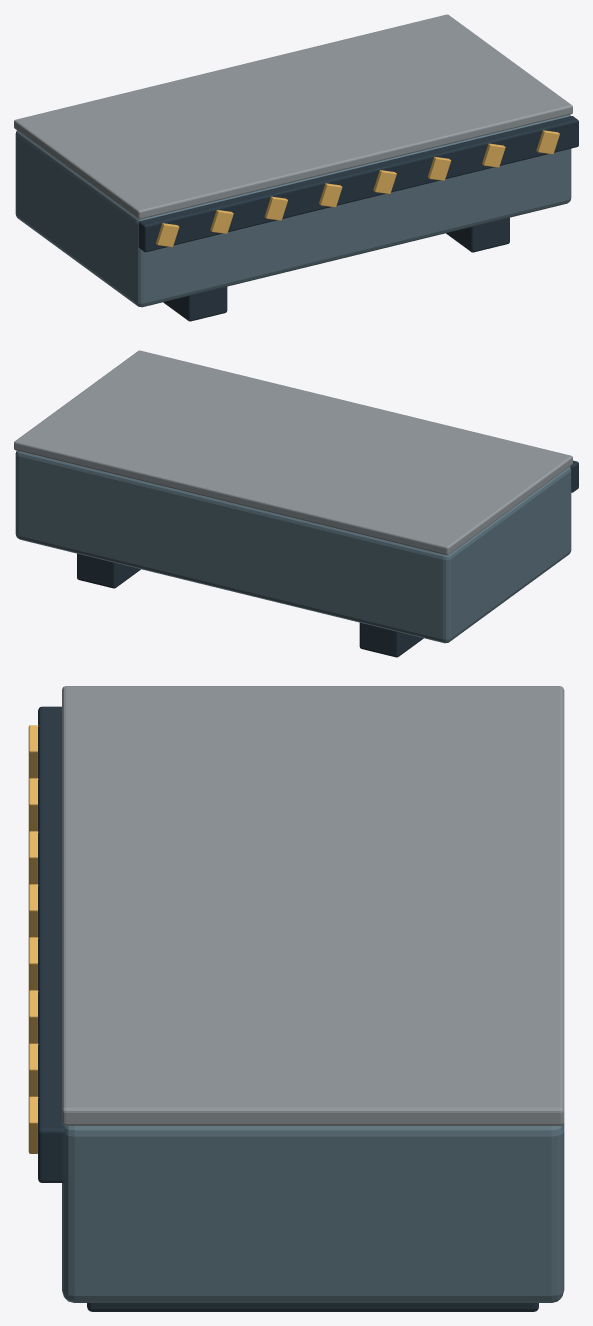
Rendered from SM_Deck.fbx.
3 renders of one model, top to bottom at view 1: azimuth 30°, elevation 25°; view 2: azimuth 150°, elevation 25°; view 3: azimuth 270°, elevation 25°, orthographic. The views are drawn at different scales.
Visible parts, largest first — view 1: SM_Deck; view 2: SM_Deck; view 3: SM_Deck.
Boxes of the visible parts, x1,y1,x2,y2 form: SM_Deck: (14,14,578,321); SM_Deck: (14,350,578,657); SM_Deck: (28,686,564,1311).
Bounding box in the file's own units: 200 × 107 × 57.
